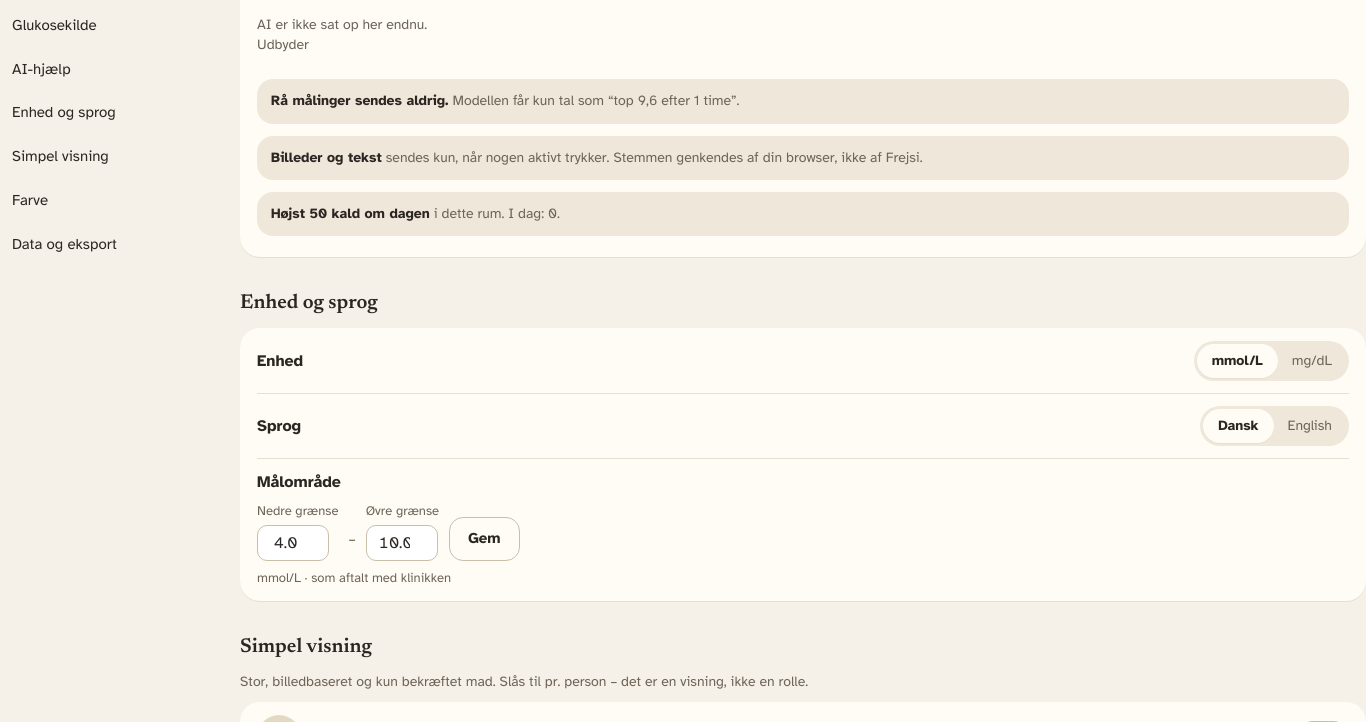
Scenario: SettingsScreen · unit and target range (per space, owners only) › lets an owner switch to mg/dL, PATCHes the space and re-renders with the new values
(page scrolled)
Click the radio button labelled "mg/dL" at (1312, 361), box [1278,344,1346,378]
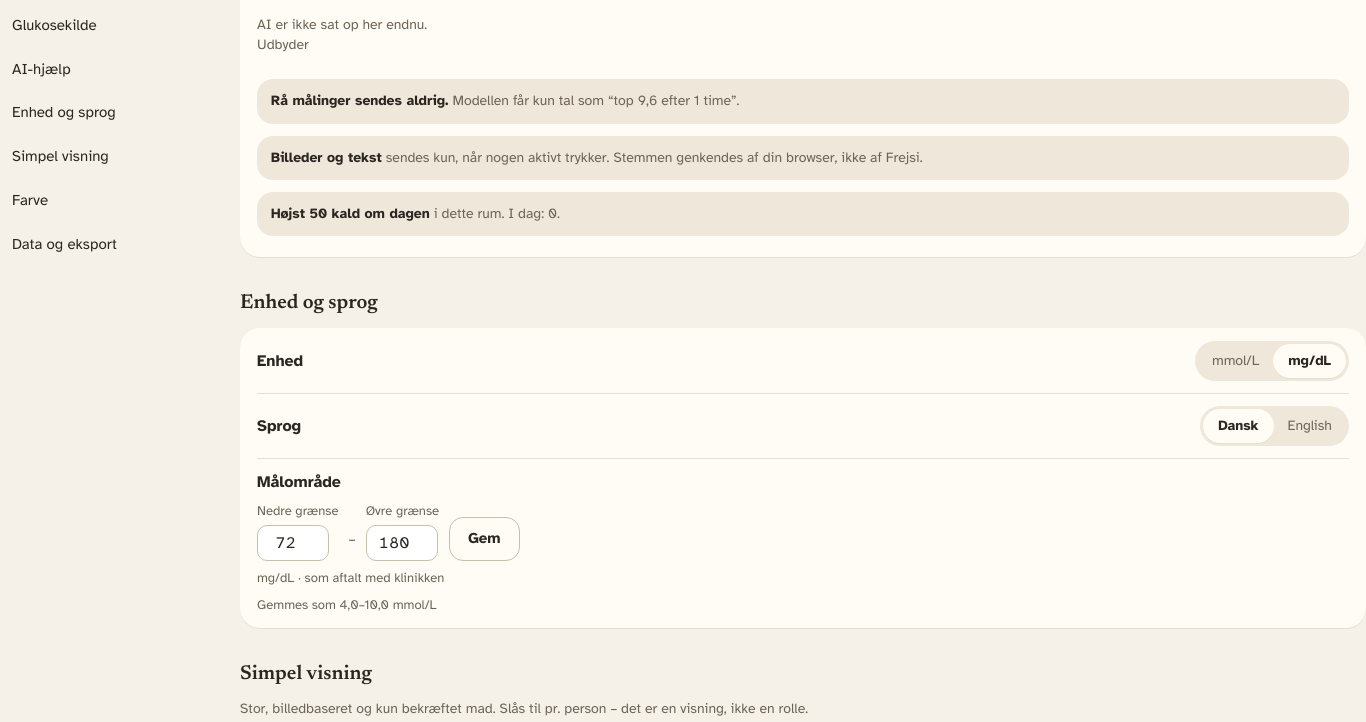
Now the number field labelled "Nedre grænse" holds "72", box [257,525,329,561]
Now the number field labelled "Øvre grænse" holds "180", box [366,525,438,561]
